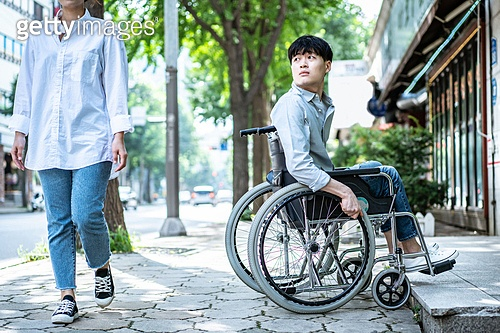wheelchair: (226, 35, 460, 313)
